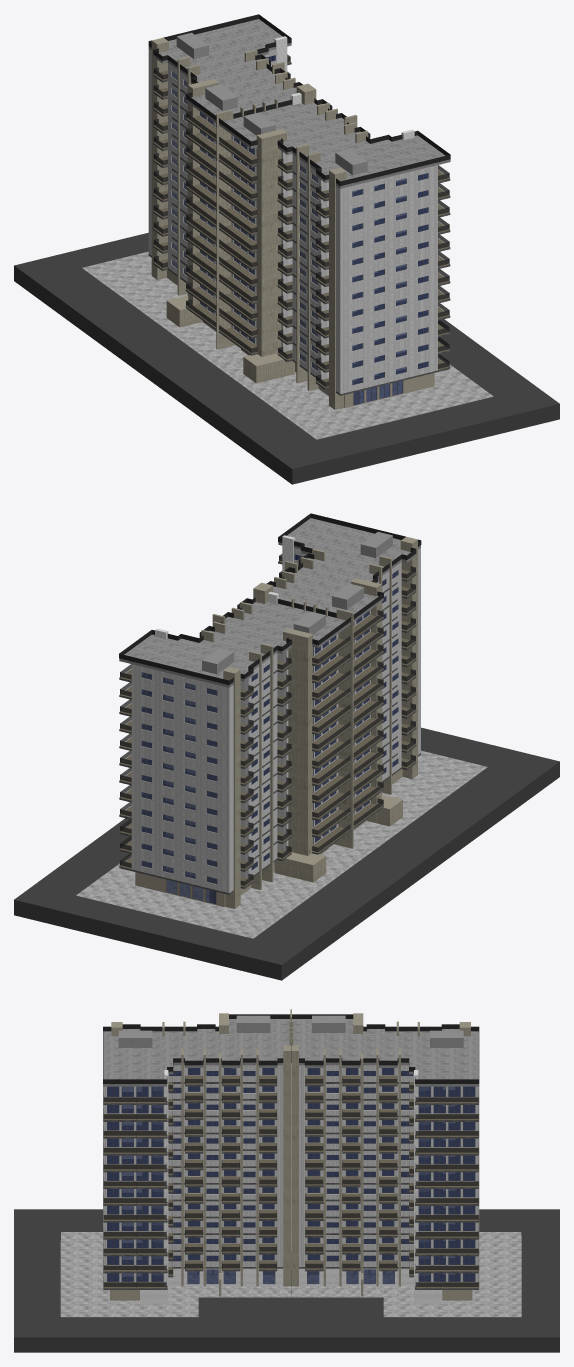
File: apartment-84.glb
The picture shows the model from 3 angles, top to bottom: view 1: azimuth 30°, elevation 25°; view 2: azimuth 150°, elevation 25°; view 3: azimuth 270°, elevation 25°; orthographic projection.
Parts seen in each view (by area): view 1: Box001, Line003, Box410, Line130, Box403, Line126, Line122, Line005, Box002, Line125, Shape, Box422 (+2 smaller); view 2: Box001, Line003, Box410, Line130, Box403, Line126, Line122, Line005, Box002, Line125, Shape, Box422 (+3 smaller); view 3: Box001, Line005, Line003, Box403, Box002, Line122, Line130, Line126, Box410, Shape, Line125, Box856 (+5 smaller).
Part boxes in pixels (x1,y1,x2,y2): Box001: (14,232,559,484); Line003: (148,49,437,393); Box410: (151,37,368,409); Line130: (82,251,493,439); Box403: (153,61,450,388); Line126: (148,19,450,188); Line122: (153,54,449,386); Line005: (148,62,450,395); Box002: (172,55,427,404); Line125: (148,14,450,185); Shape: (171,56,428,405); Box422: (176,32,367,175); Box001: (14,727,559,980); Line003: (131,548,420,893); Box410: (201,536,417,908); Line130: (76,750,487,938); Box403: (119,559,416,887); Line126: (119,518,420,687); Line122: (120,554,415,885); Line005: (119,561,420,894); Box002: (141,554,397,903); Line125: (119,513,421,685); Shape: (141,554,398,904); Box422: (202,532,392,674); Box001: (14,1209,559,1352); Line005: (103,1068,478,1289); Line003: (103,1065,479,1282); Box403: (103,1075,479,1288); Box002: (107,1068,475,1283); Line122: (103,1076,478,1286); Line130: (60,1232,521,1317); Line126: (103,1019,479,1086); Box410: (111,1009,470,1296); Shape: (107,1068,475,1284); Line125: (103,1014,479,1083); Box856: (140,1070,442,1304).
Size of the model in its own units: 49.1 by 44.74 by 88.33.
Materials: 15 (8 with a texture image).
